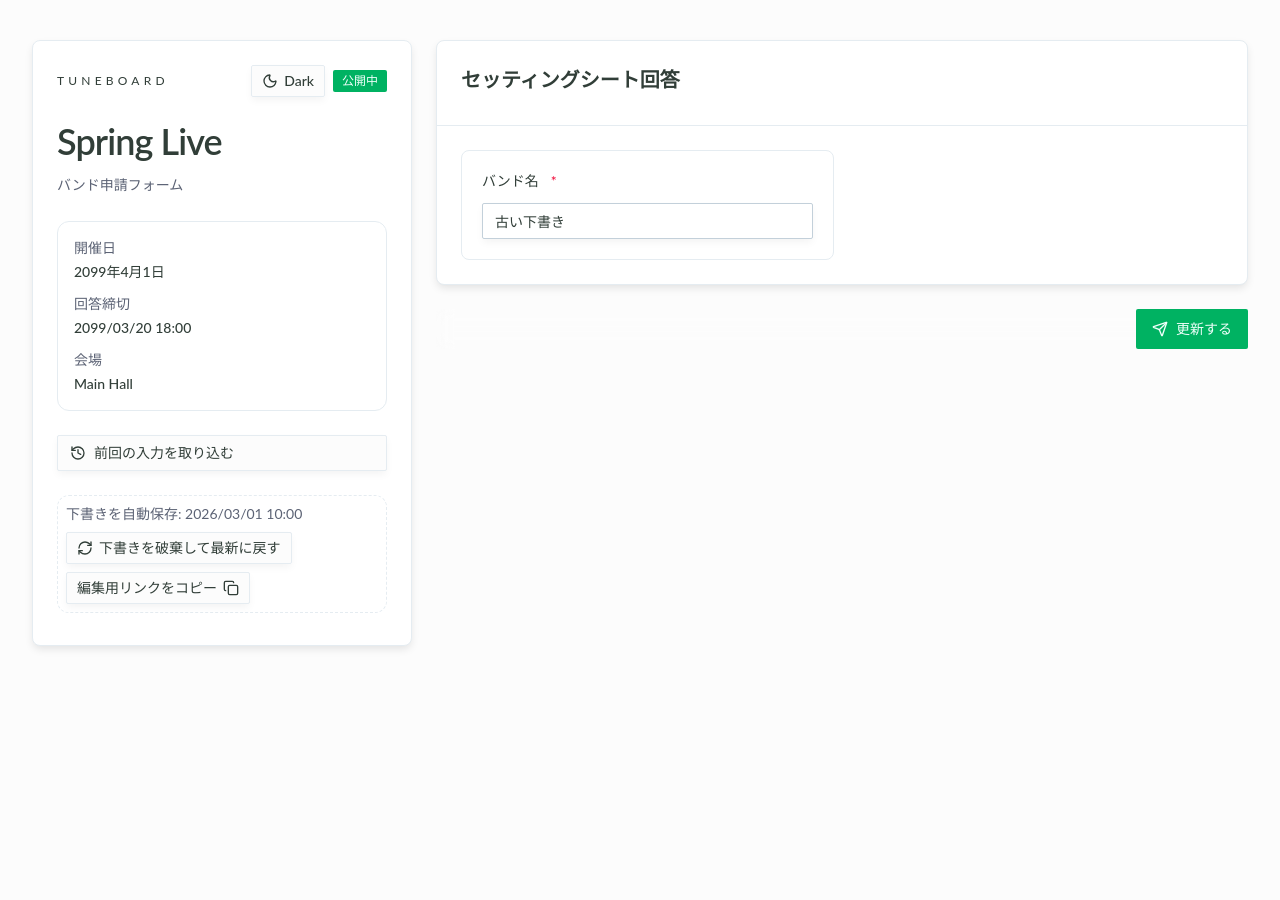
Test: SettingSheetForm › 「最新の内容に戻す」で上書きされる項目を確認してから下書きを破棄できる
The width and height of the screenshot is (1280, 900).
Expected: the field labelled "バンド名 *" holds "古い下書き", [482,203,813,239]
Click the button "下書きを破棄して最新に戻す". click: x=179, y=548
box: [66,532,292,564]
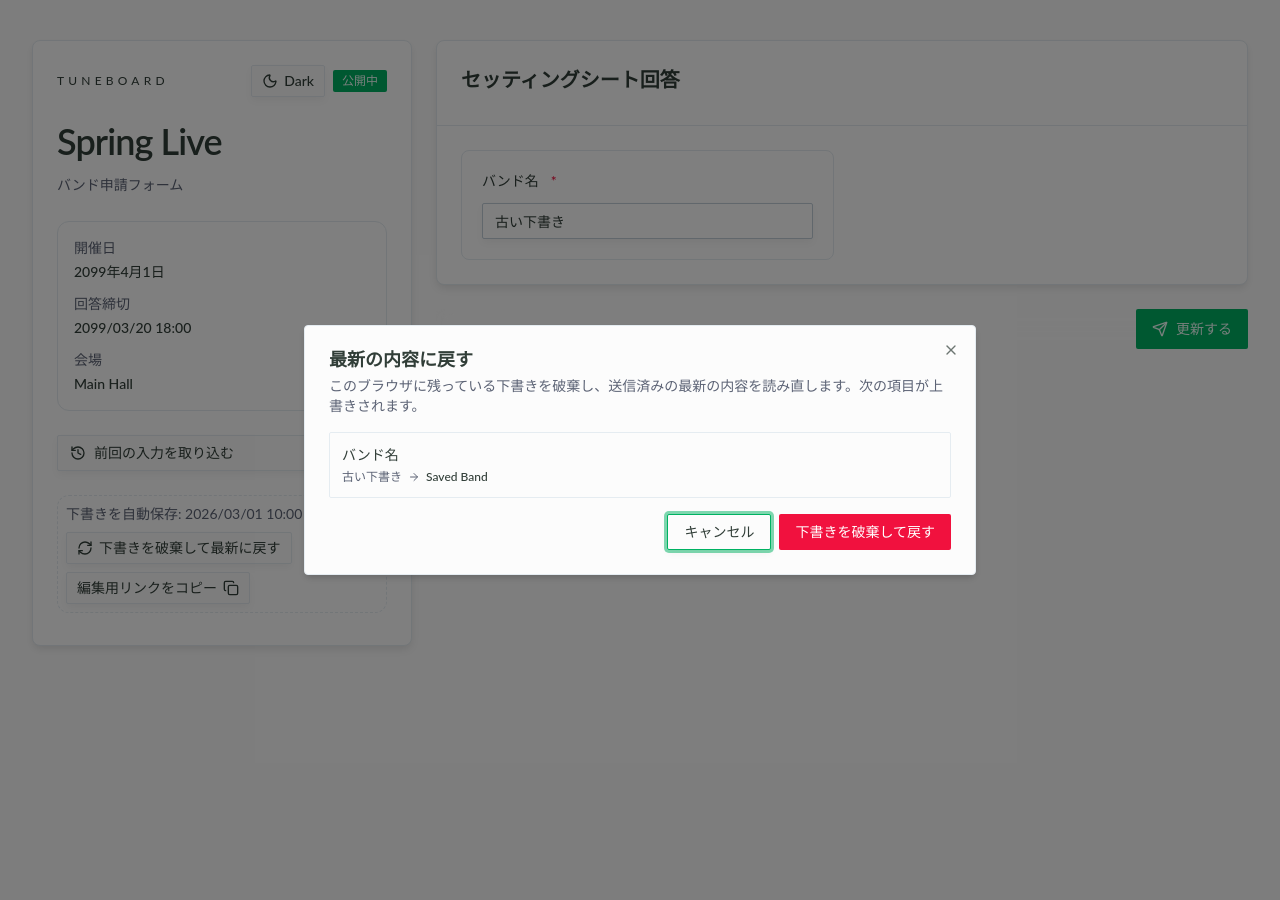
Expected: the text "バンド名" is shown, [342,446,399,463]
Expected: the text "古い下書き" is shown, [342,469,402,485]
Expected: the text "Saved Band" is shown, [426,469,488,485]
Click the button "下書きを破棄して戻す". click: x=865, y=532
box: [779,514,951,550]
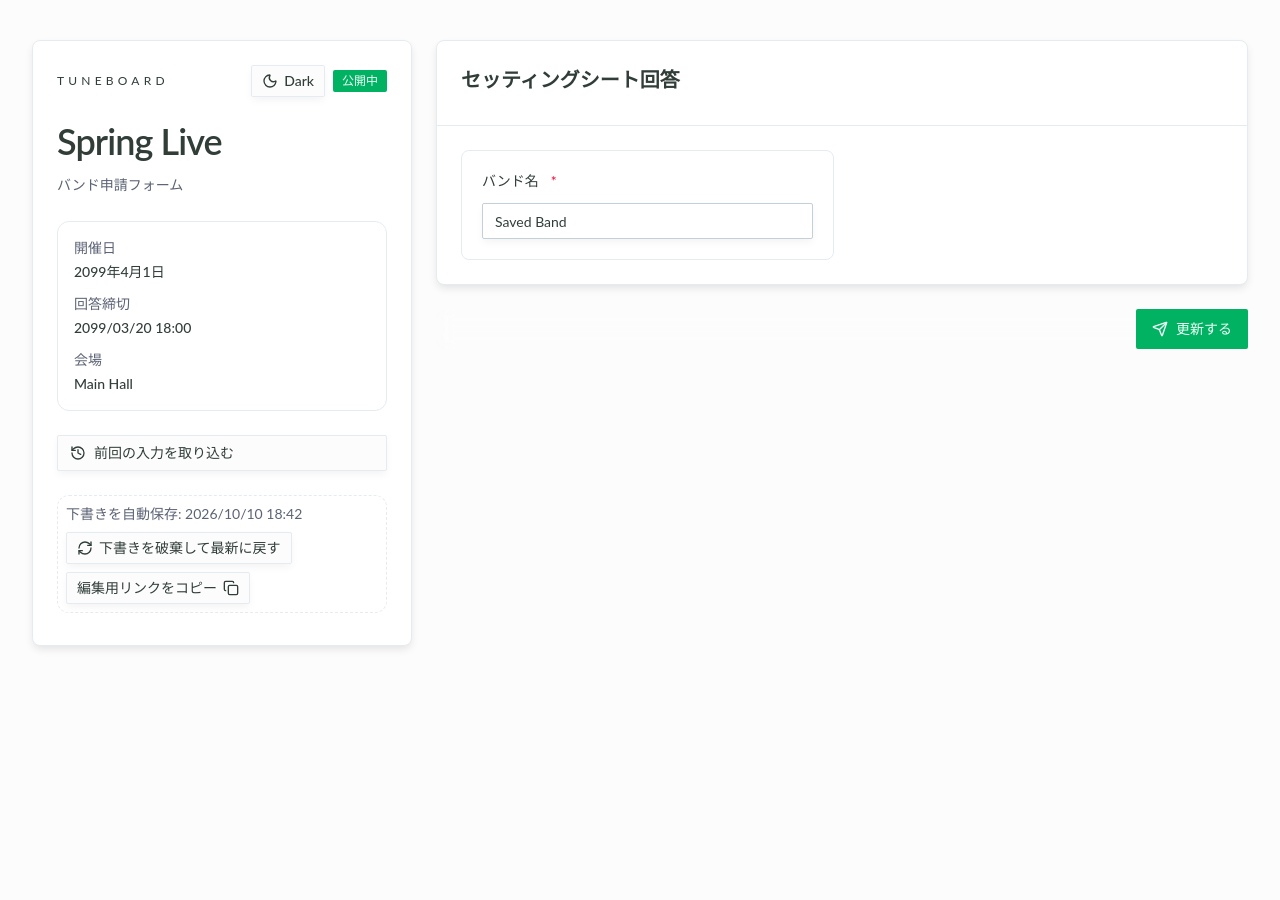
Expected: the field labelled "バンド名 *" holds "Saved Band", [482,203,813,239]
